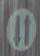Two way: (5, 3, 39, 55)
